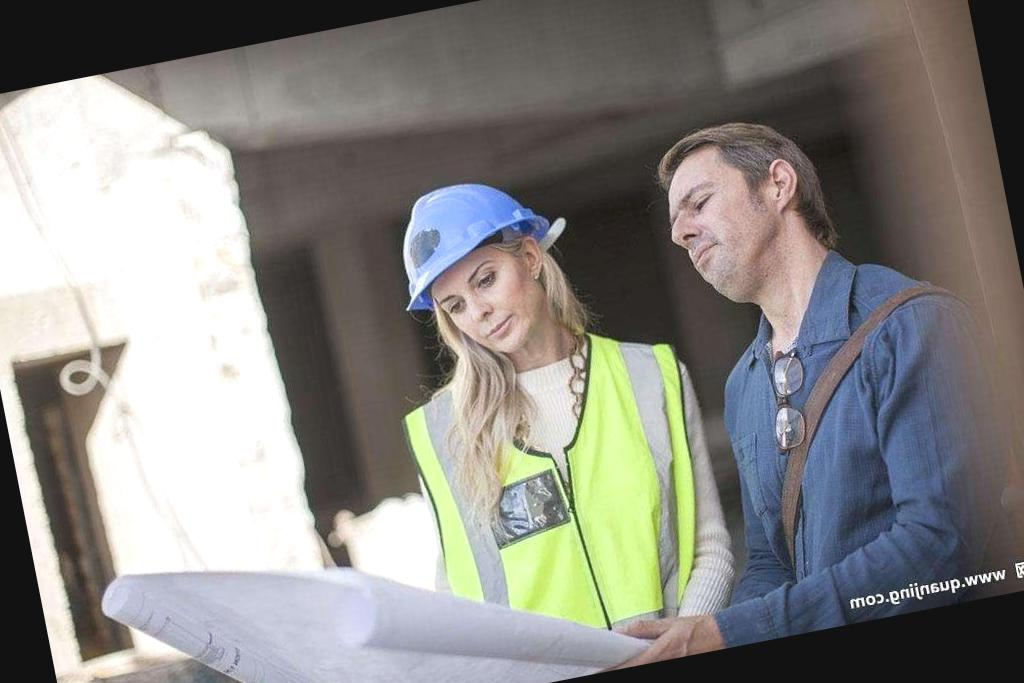helmet: (368, 157, 568, 326)
no_vest: (673, 232, 1024, 633)
person: (623, 32, 1024, 647), (308, 123, 737, 679)
